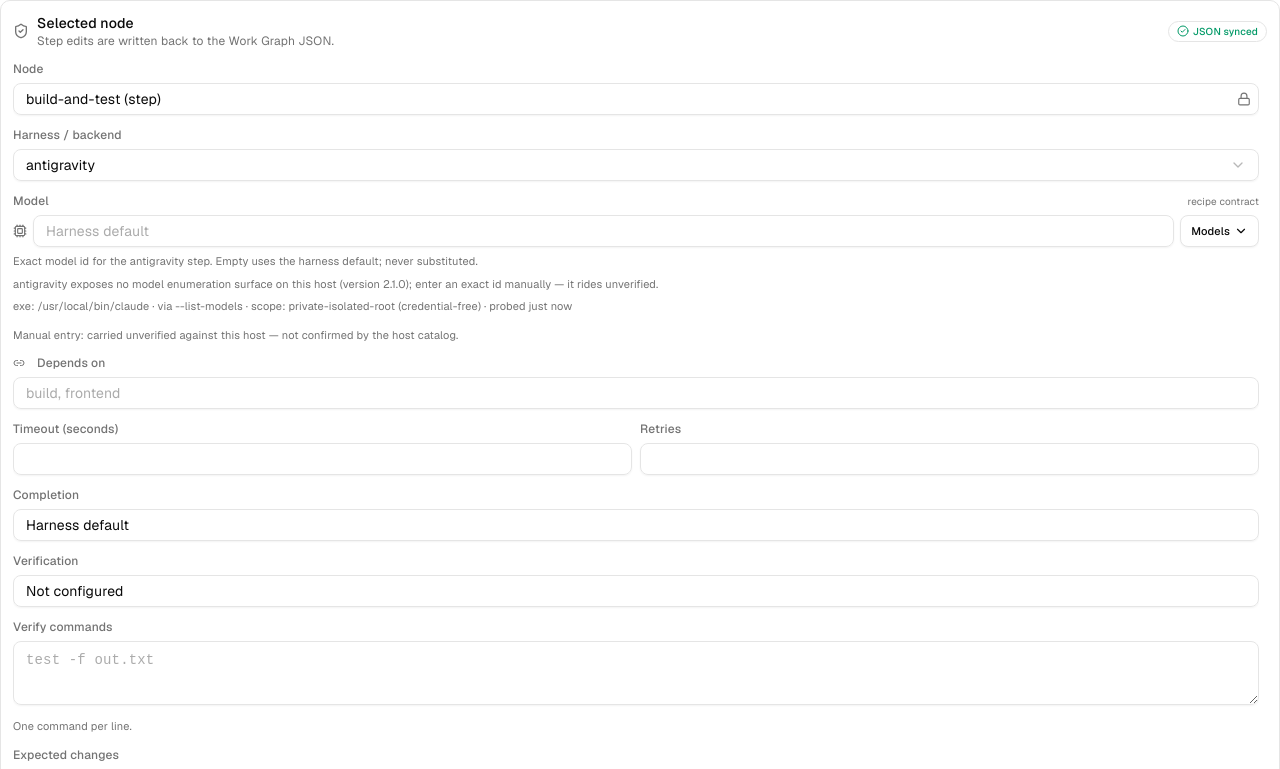
Scenario: SelectedNodeInspector live model catalog + picker › shows the explanatory empty state for a harness with no known models
What coordinates should you click on to do the following:
click the button with aria-label "Browse models"
I would click on:
 (1220, 231)
Its box is [1180, 215, 1259, 247].
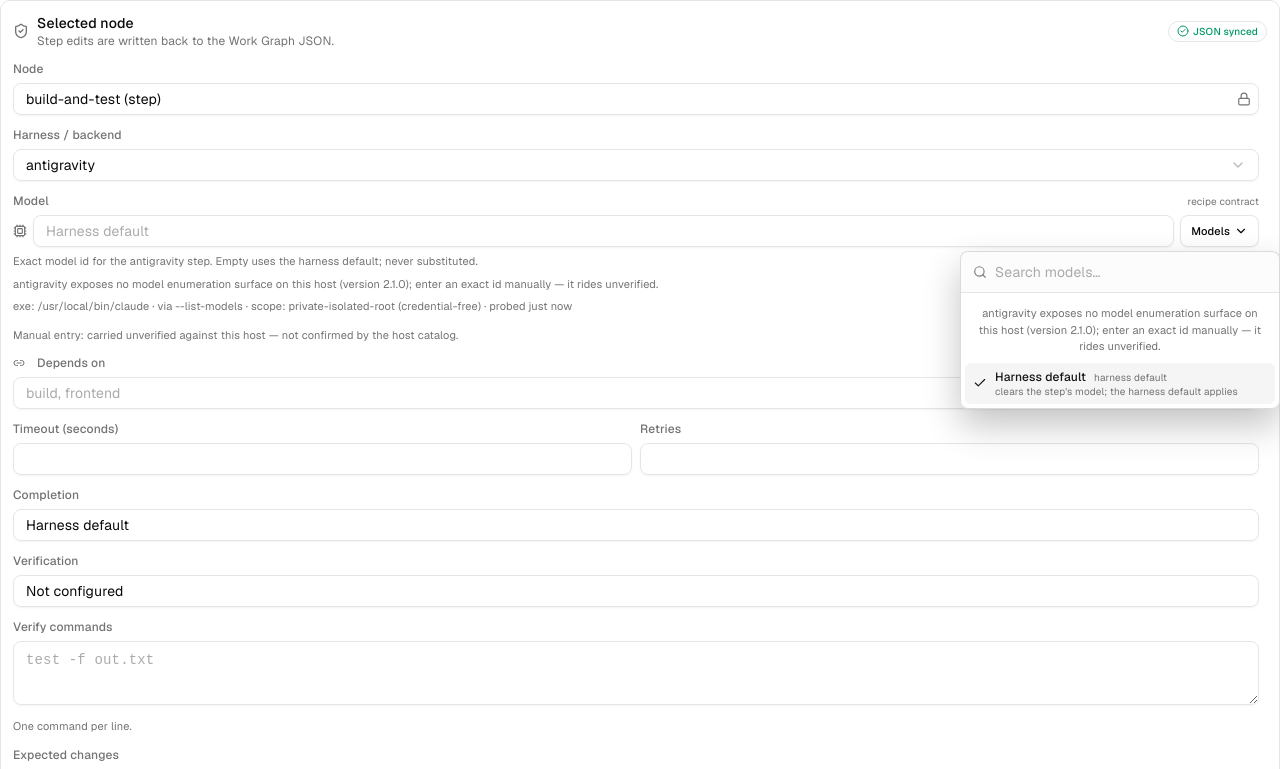
Check: the message with test id "model-picker-empty" shows "no model enumeration surface", box [979, 306, 1261, 353]
